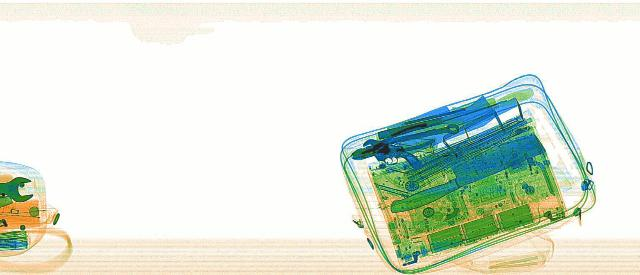Gun: (356, 135, 426, 174)
Knife: (357, 131, 568, 214)
Pliers: (329, 121, 451, 160)
Wrench: (354, 121, 471, 154)
